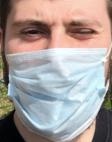with_mask: (2, 1, 112, 142)
